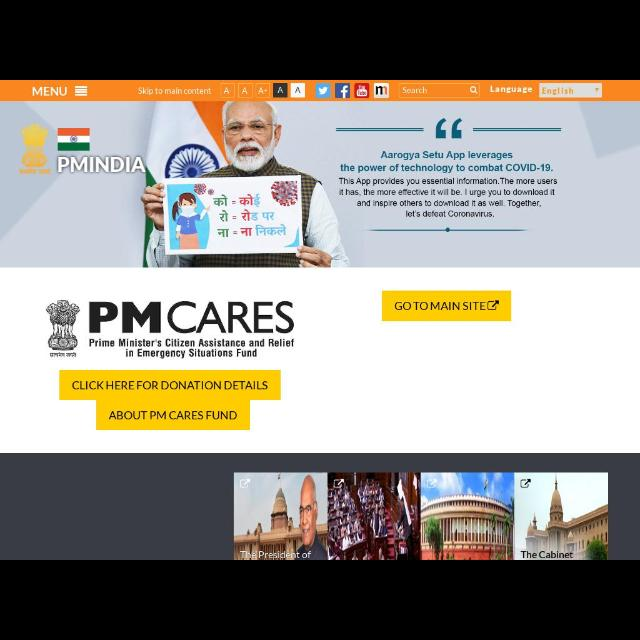icon: (272, 85, 288, 97), (73, 84, 89, 96), (240, 84, 252, 96), (258, 85, 272, 95), (489, 298, 499, 310), (223, 85, 233, 96), (292, 85, 302, 96), (471, 86, 479, 94), (594, 86, 600, 94)
image: (3, 104, 639, 266), (45, 297, 298, 359), (234, 473, 328, 559), (515, 473, 609, 559), (328, 474, 420, 558), (423, 474, 512, 560), (354, 82, 370, 98), (374, 82, 388, 98), (316, 85, 330, 97), (338, 85, 348, 95)
input: (399, 85, 478, 96)
spinner: (540, 84, 602, 96)
text: (70, 380, 274, 392), (107, 412, 237, 421), (395, 300, 485, 312), (136, 84, 210, 96), (31, 85, 67, 97), (490, 86, 530, 94), (543, 88, 575, 96), (401, 87, 429, 93)
textbutton: (59, 369, 283, 401), (384, 290, 510, 322), (99, 404, 248, 431)
toolbar: (1, 80, 639, 102)
